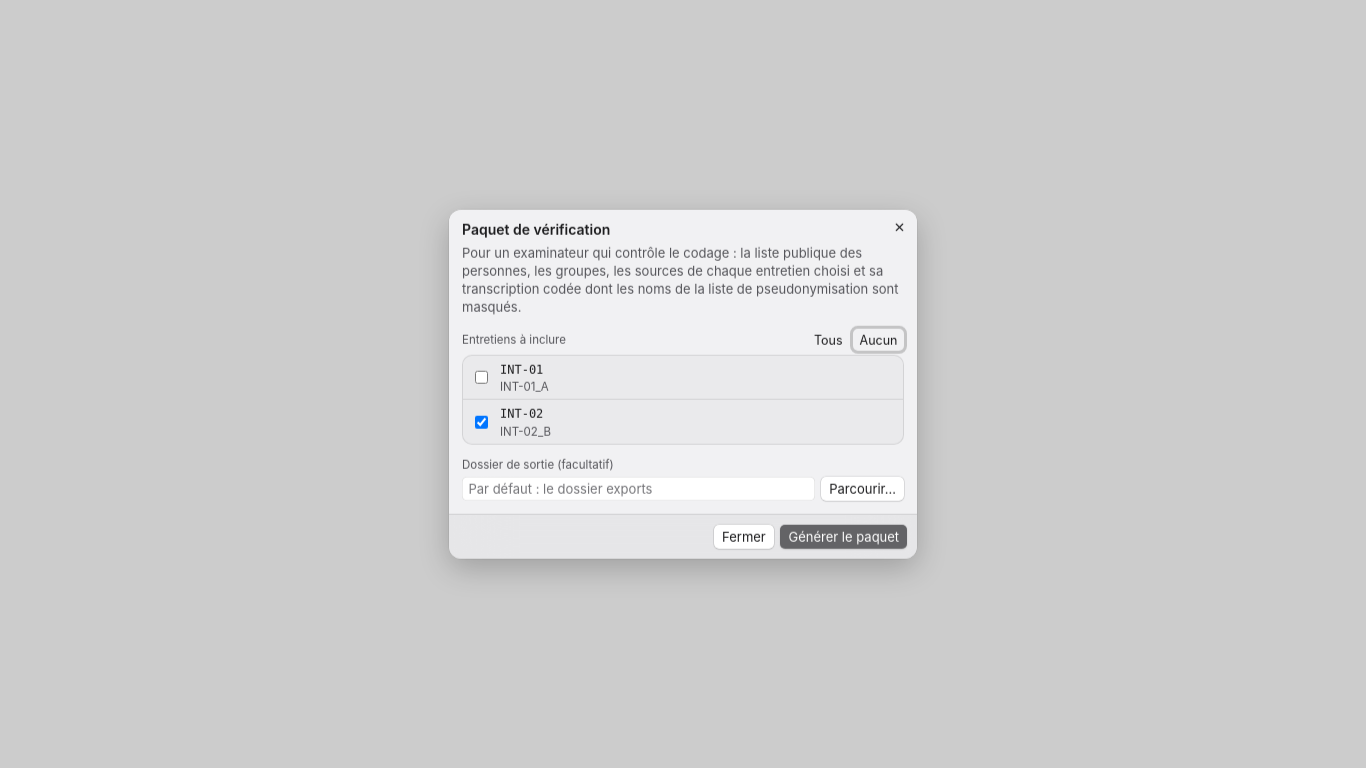
Paquet de vérification › sends the chosen interviews and reports the folder and what was masked
Check: the checkbox labelled "INT-02" is checked, box [475,416,488,429]
Check: the checkbox labelled "INT-01" is not checked, box [475,371,488,384]
Click the button "Générer le paquet" at [844, 536], box [780,524,907,548]
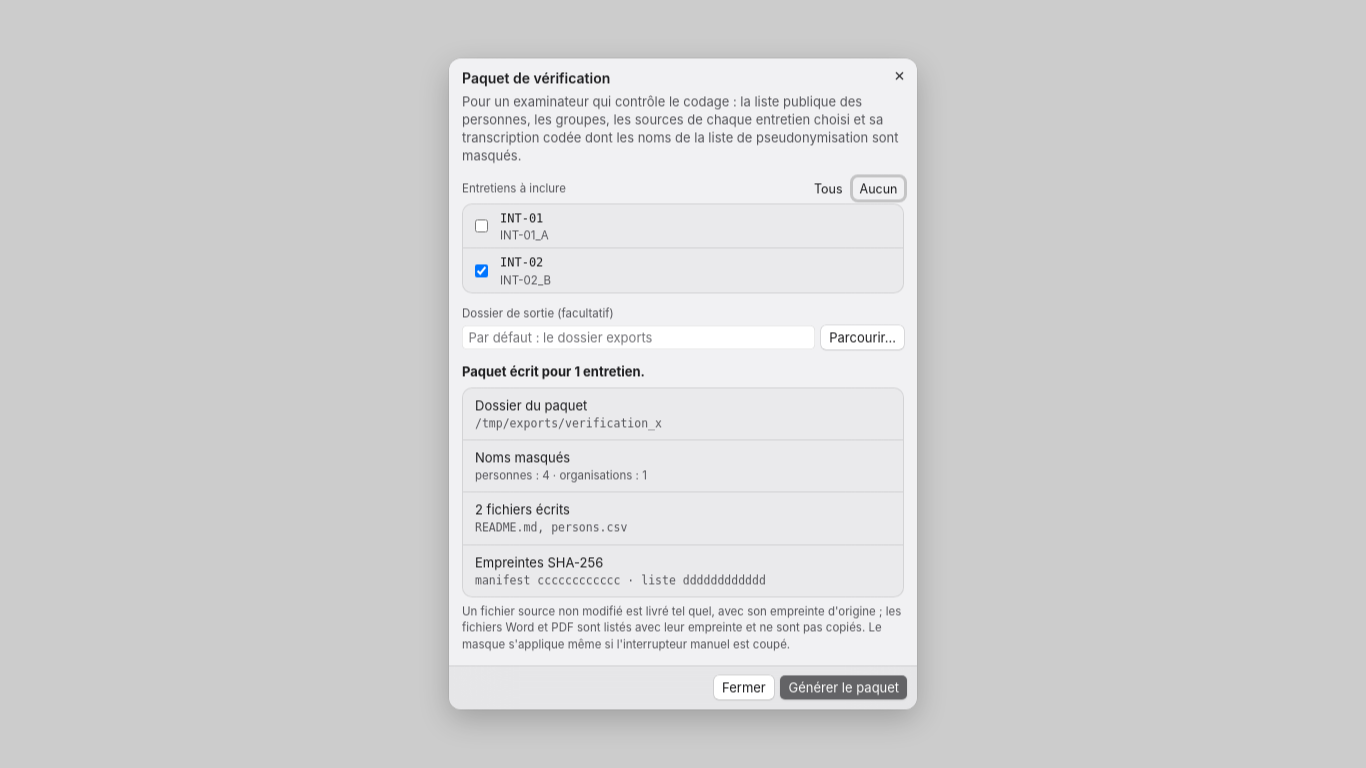
Check: the element with test id "verification-result" shows "/tmp/exports/verification_x", box [475,416,662,430]
Check: the element with test id "verification-result" shows "personnes : 4", box [475,469,647,483]
Check: the element with test id "verification-result" shows "organisations : 1", box [475,469,647,483]
